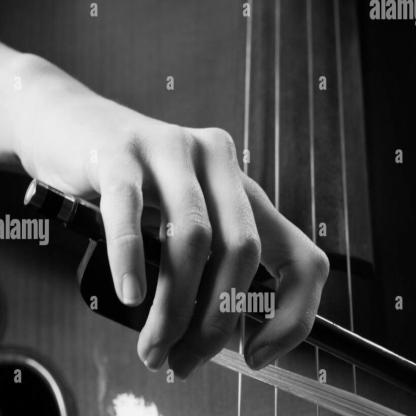good: (72, 81, 357, 403)
